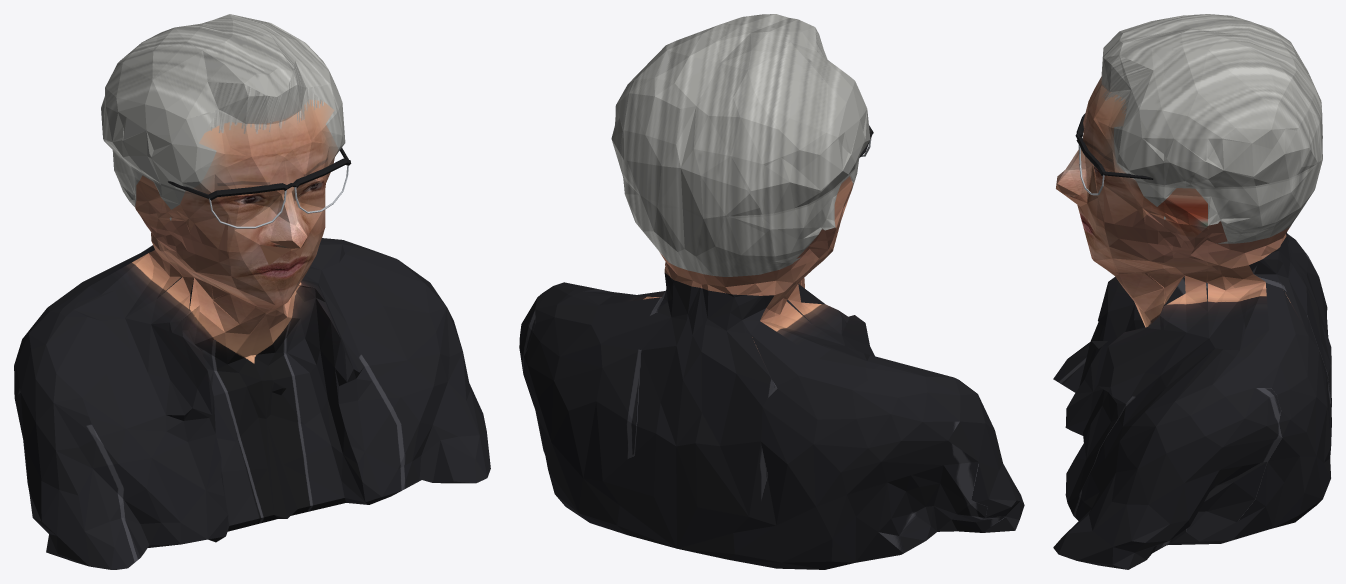
Rendered from jensen_closed.glb.
The picture shows the model from 3 angles, left to right: view 1: azimuth 30°, elevation 25°; view 2: azimuth 150°, elevation 25°; view 3: azimuth 270°, elevation 25°; orthographic projection. The views are drawn at different scales.
Visible parts, largest first — view 1: jensen_n64; view 2: jensen_n64; view 3: jensen_n64.
Part boxes in pixels (x1,y1,x2,y2): jensen_n64: (14, 14, 490, 569); jensen_n64: (519, 14, 1024, 569); jensen_n64: (1053, 14, 1331, 569).
Size of the model in its own units: 2.3 by 2.2 by 1.26.
3 materials, 1 textured.
